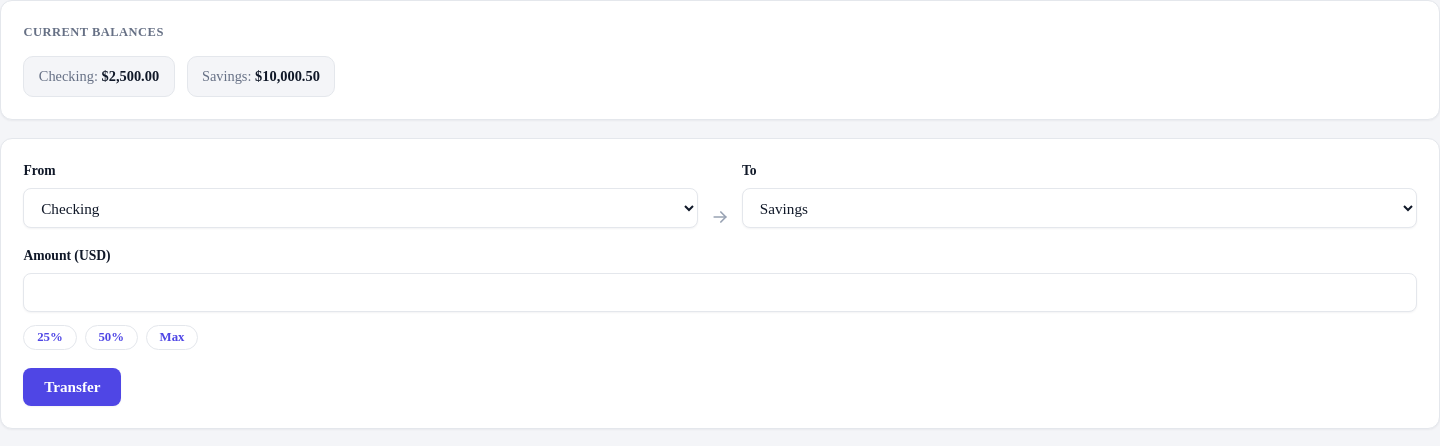
Test: TransferForm quick amounts › recomputes from the newly selected source account
This screenshot has width=1440, height=446.
Step 1. Select "Savings" in the dropdown labelled "From" → [361, 208], box [23, 188, 698, 228]
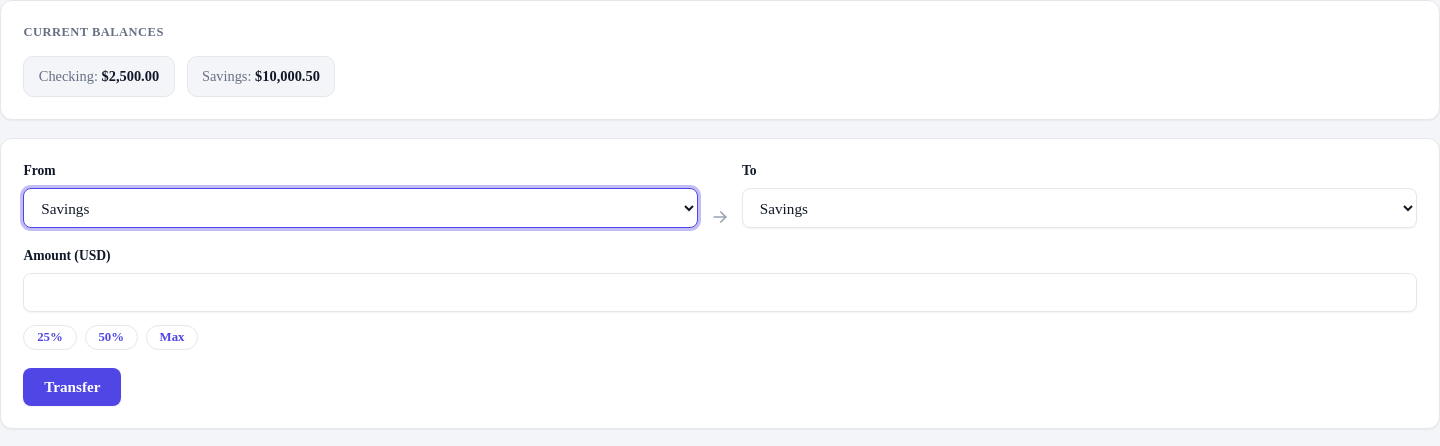
Step 2. Click the button "50%" → [111, 338], box [85, 325, 138, 350]
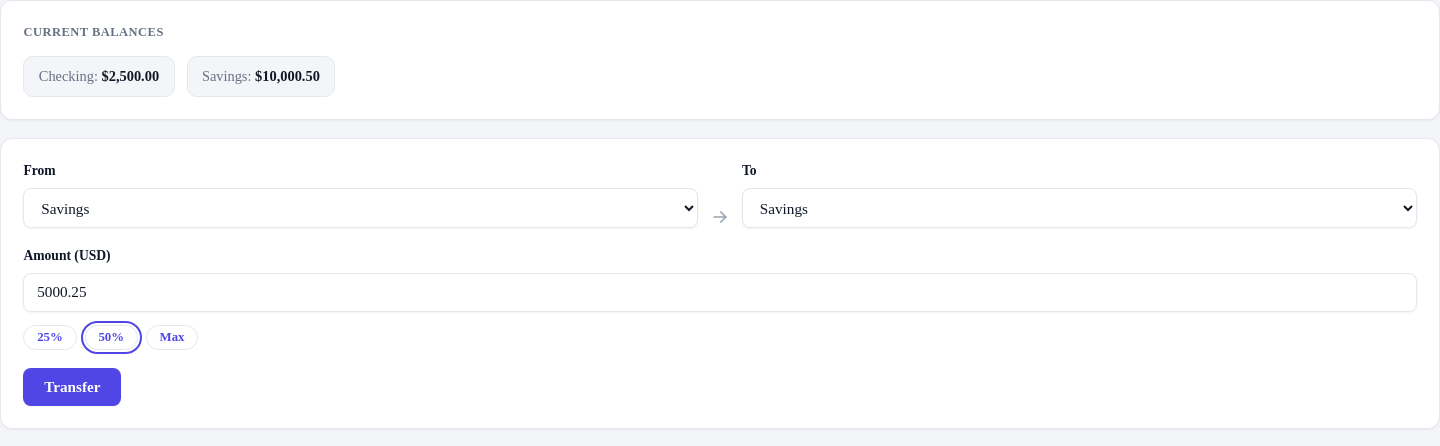
Result: the number field labelled "Amount (USD)" holds "5000.25" at [23, 273, 1417, 312]
